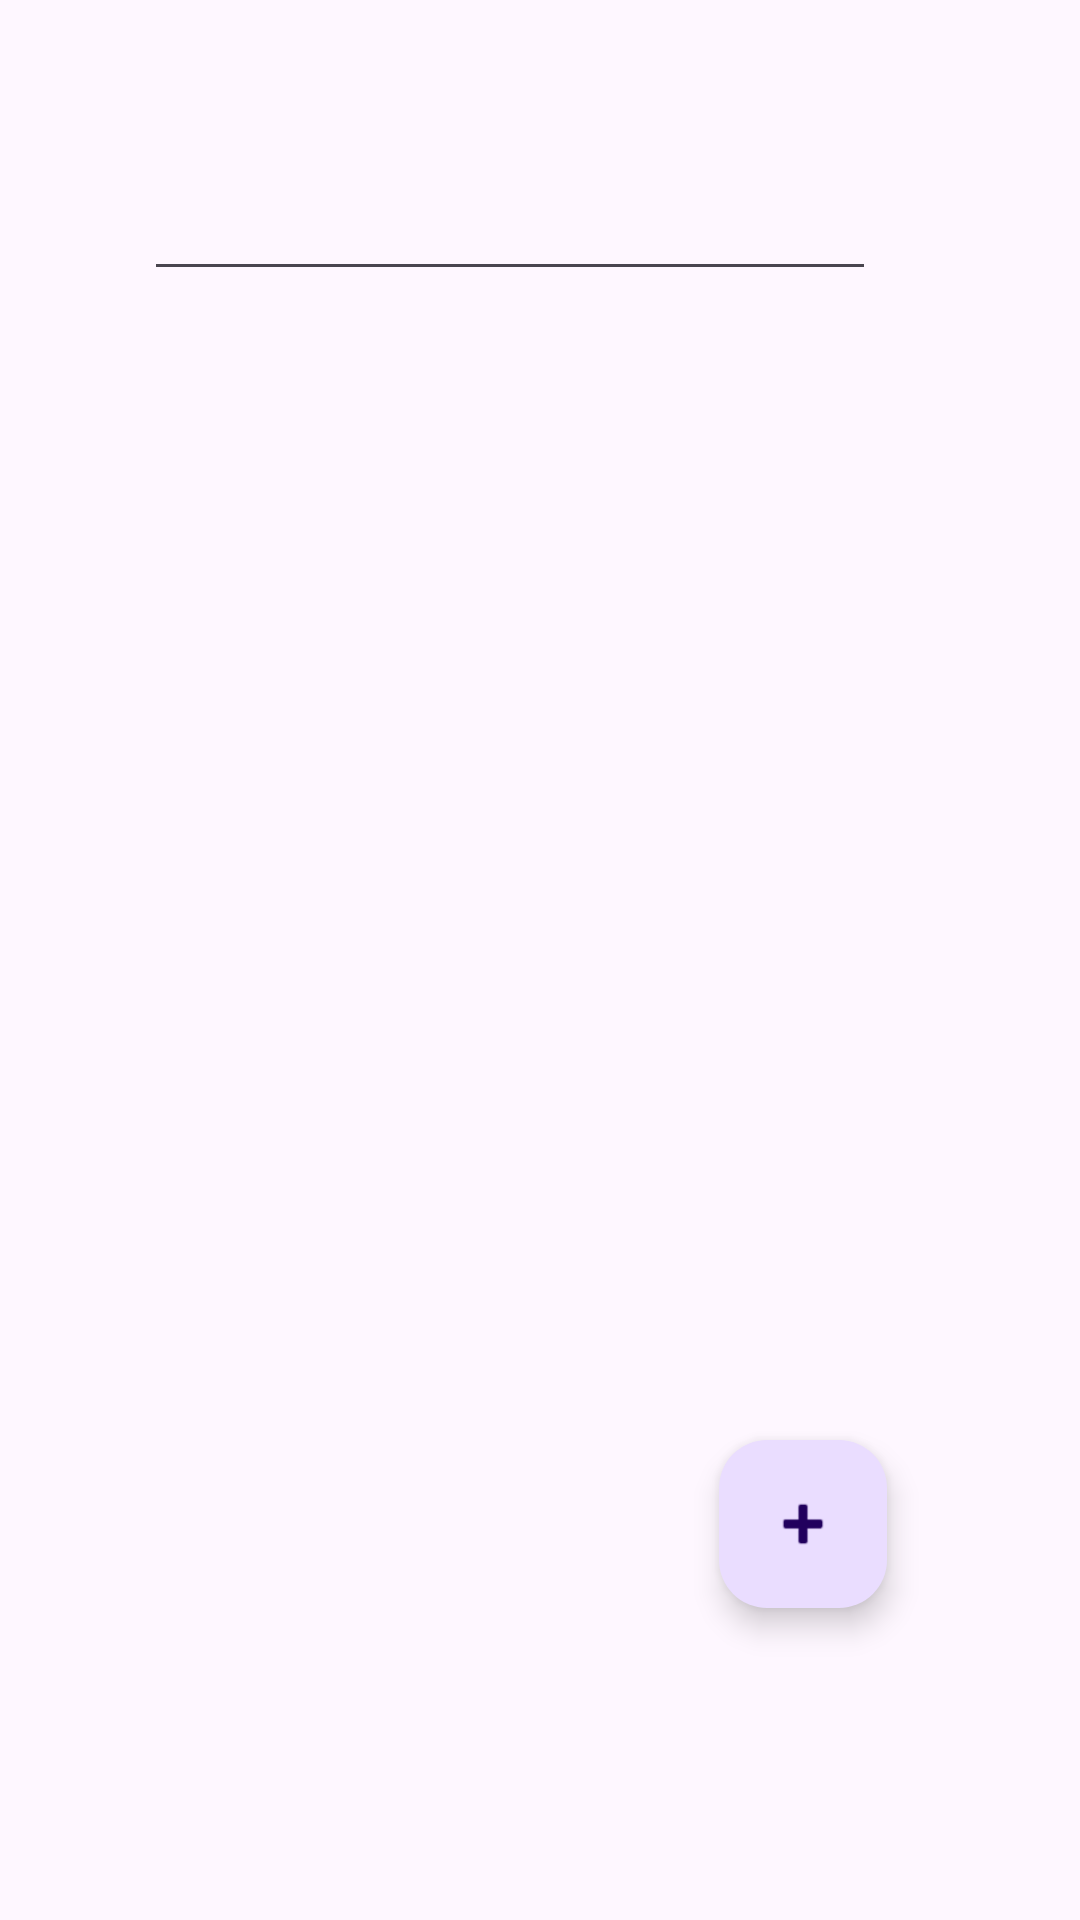

Screen size 1080 × 1920. Icon name, then its box in pixels as [x1, y1, x2, y2]:
add: [719, 1440, 887, 1608]
